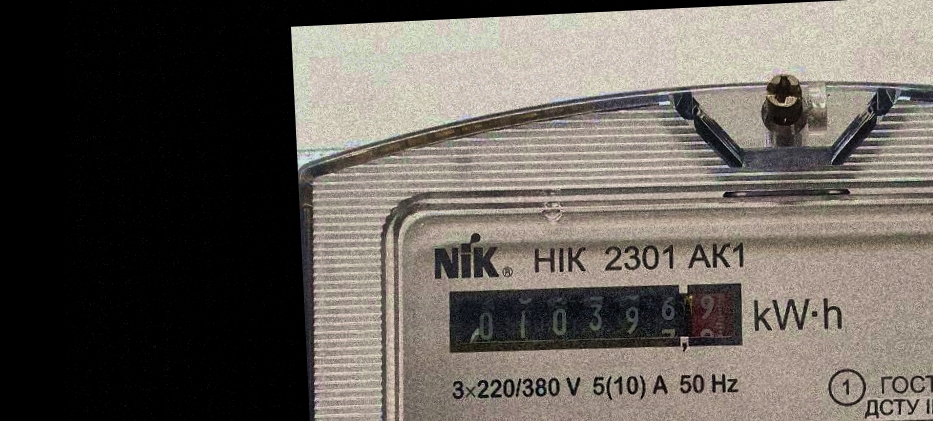0: (548, 303, 571, 337), (475, 307, 497, 341)
1: (516, 305, 531, 339)
3: (587, 300, 606, 334)
6: (657, 292, 680, 322)
9: (621, 302, 642, 336), (696, 291, 718, 322)
screen: (433, 264, 756, 373)
